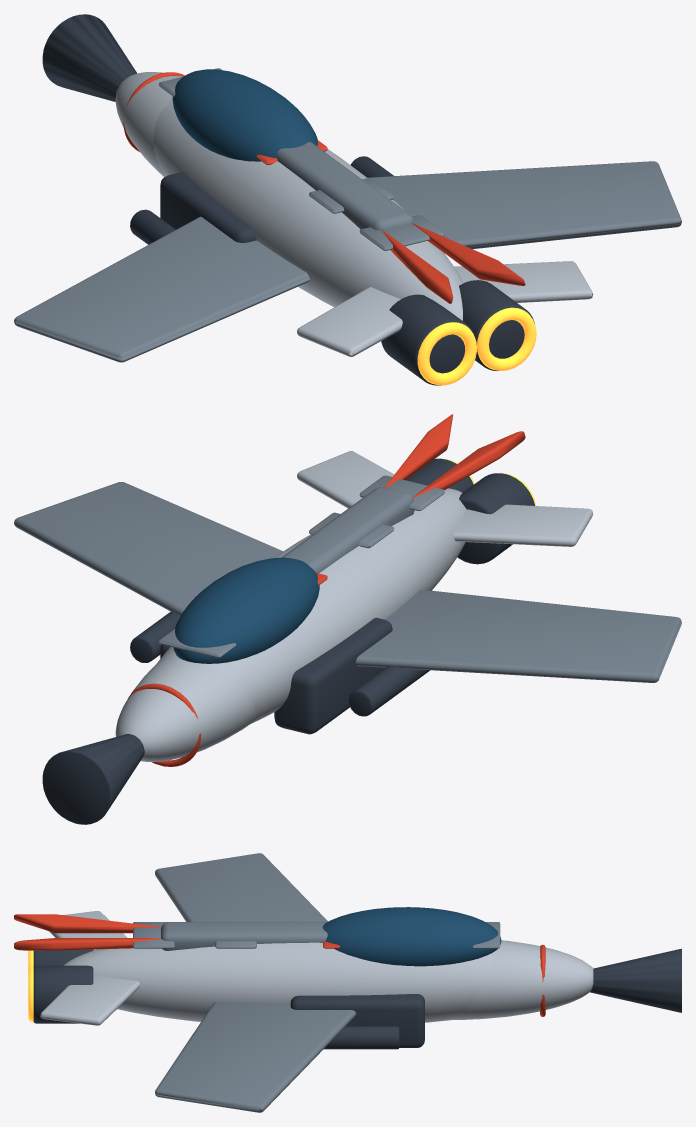
Rendered from enemy_fighter.glb.
The picture shows the model from 3 angles, top to bottom: view 1: azimuth 30°, elevation 25°; view 2: azimuth 150°, elevation 25°; view 3: azimuth 270°, elevation 25°; orthographic projection. The views are drawn at different scales.
Parts seen in each view (by area): view 1: ASSET_enemy_fighter; view 2: ASSET_enemy_fighter; view 3: ASSET_enemy_fighter.
Part boxes in pixels (box(x1,y1,x2,y2)): ASSET_enemy_fighter: box(14, 14, 681, 385); ASSET_enemy_fighter: box(14, 414, 681, 824); ASSET_enemy_fighter: box(14, 853, 681, 1112).
Bounding box in the file's own units: 5.2 × 1.04 × 5.76.
